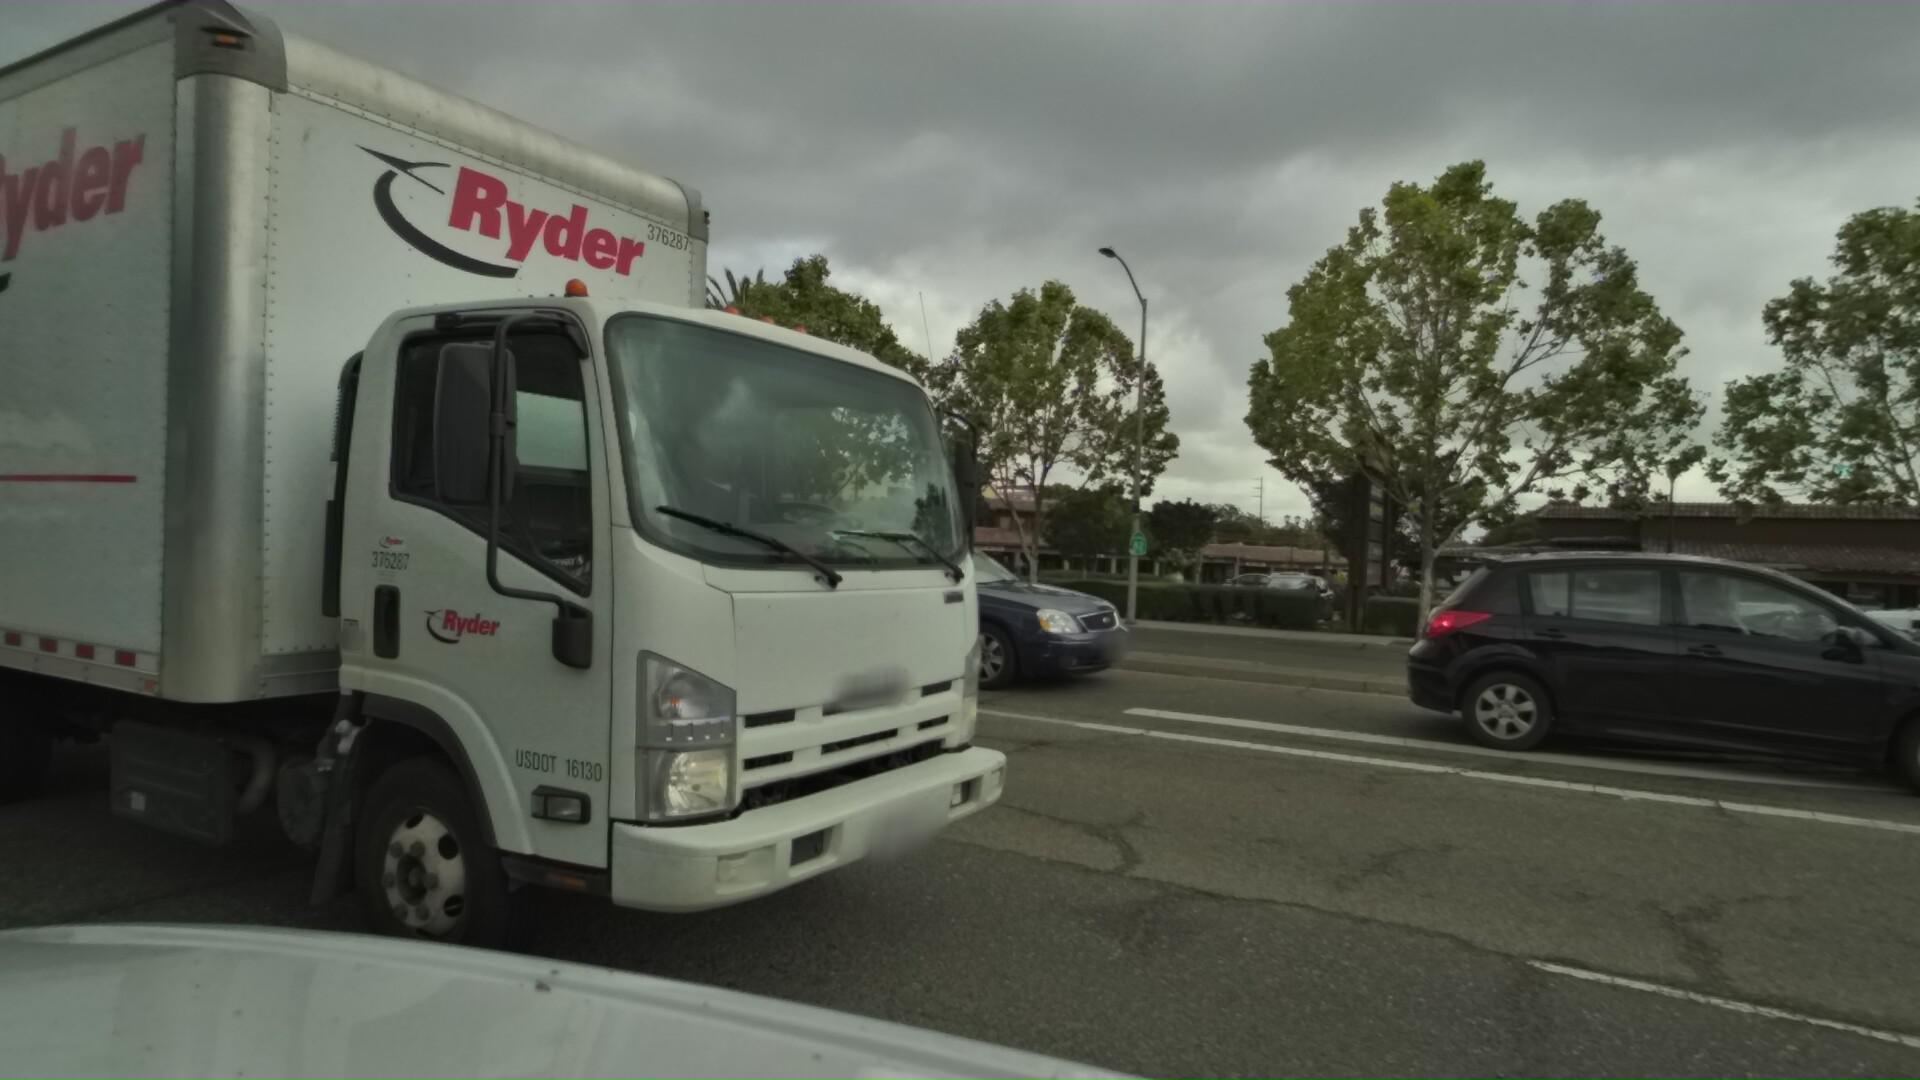bus: (1784, 429, 1920, 885)
car: (1336, 534, 1920, 831), (638, 517, 1130, 709), (241, 495, 597, 653), (1733, 560, 1920, 746), (1685, 587, 1801, 669), (1241, 572, 1332, 636), (483, 545, 587, 582)
truck: (0, 0, 1153, 1080)
